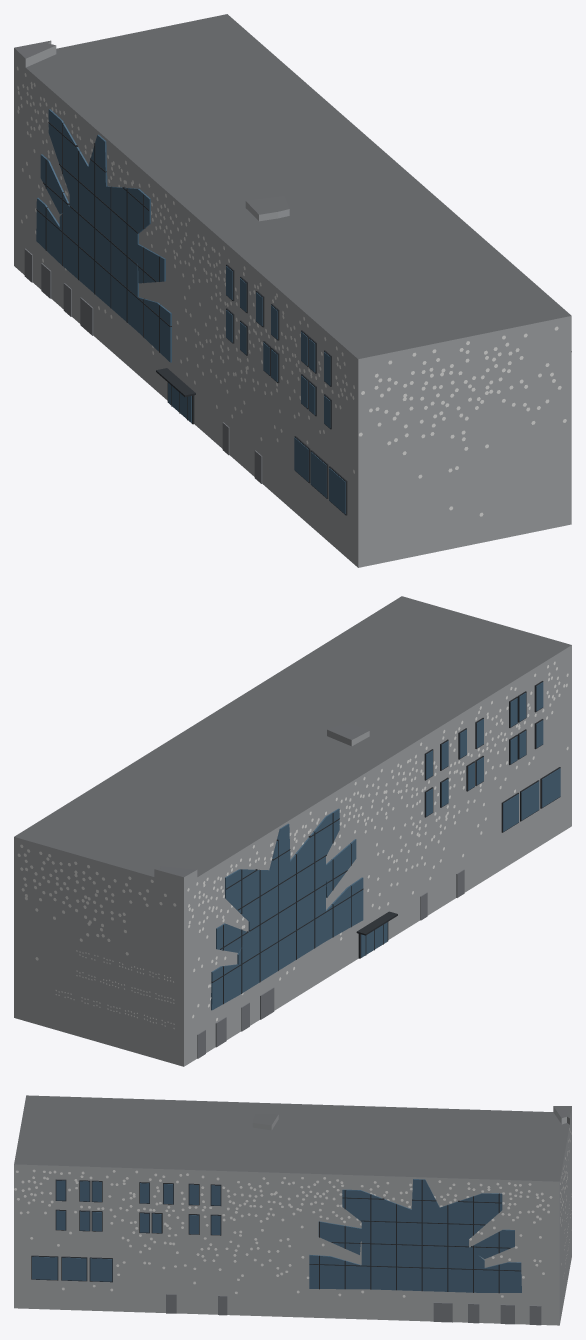
The model's file is ljg-synagoge.glb.
3 views of the same model, one above another, from view 1: azimuth 30°, elevation 25°; view 2: azimuth 150°, elevation 25°; view 3: azimuth 270°, elevation 25° (orthographic). The views are drawn at different scales.
Visible parts, largest first — view 1: ljg-synagoge; view 2: ljg-synagoge; view 3: ljg-synagoge.
Part boxes in pixels (x1,y1,x2,y2): ljg-synagoge: (14,14,571,567); ljg-synagoge: (14,596,571,1066); ljg-synagoge: (14,1095,571,1325).
Size of the model in its own units: 21.38 by 17.43 by 58.53.
